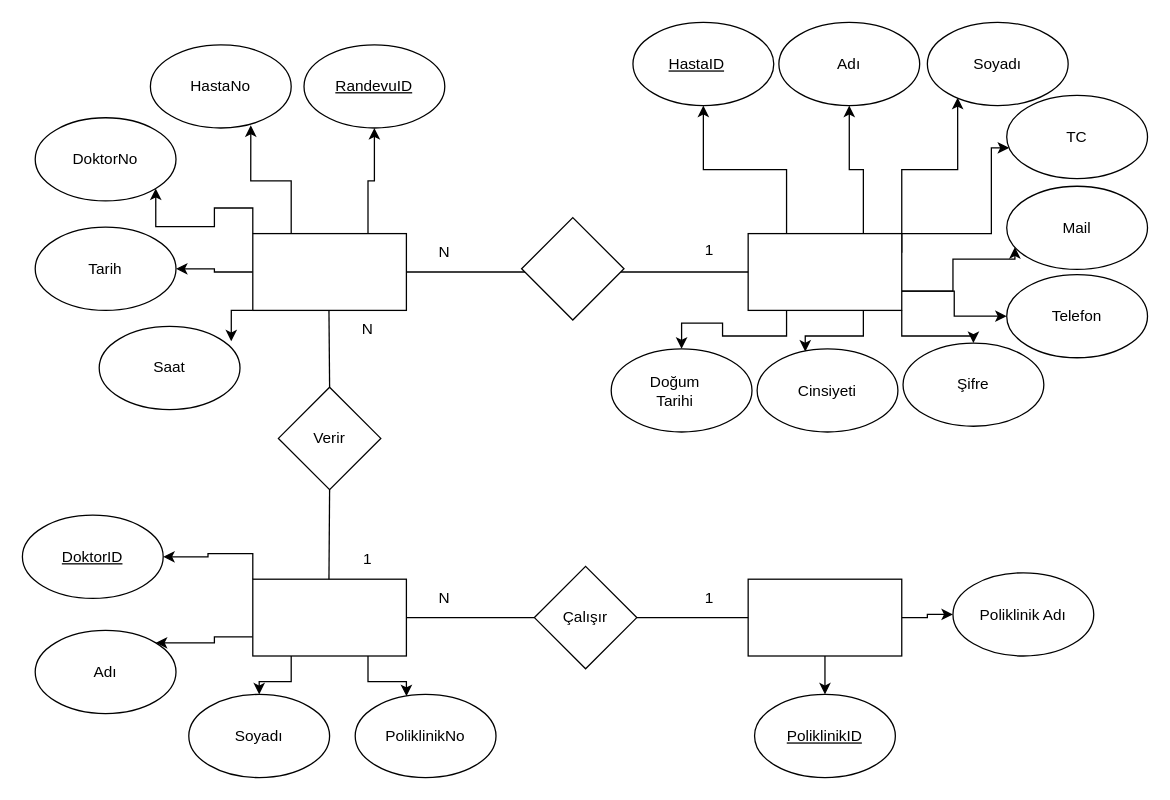
Image size: 1170x800. Some labels were removed from this diagram. The shapes that lost their labels are listed below. From the top down, each one's box as (x1, y1, x2, y2) in pixels, then its label:
(252, 232, 406, 310): Randevu
(520, 216, 624, 320): Alır
(747, 232, 902, 310): Hasta
(252, 578, 406, 656): Doktor
(747, 578, 902, 656): Poliklinik
